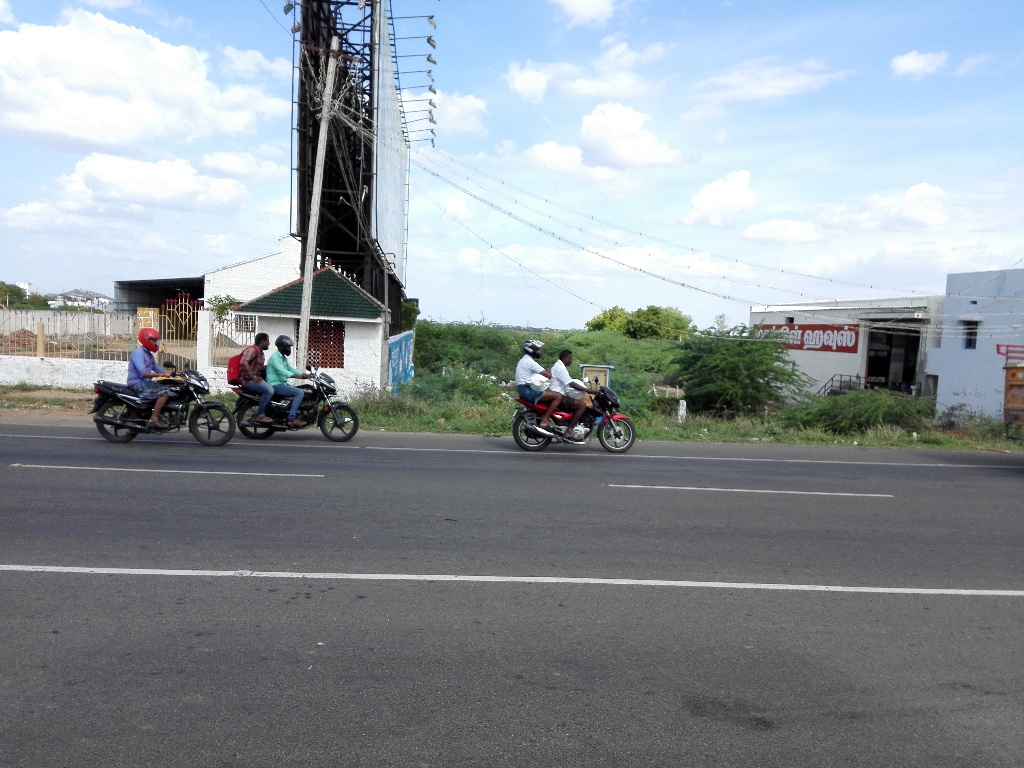biker: (488, 319, 656, 464), (220, 301, 388, 446), (78, 303, 231, 445)
helmet: (135, 320, 166, 357), (271, 330, 298, 359), (519, 332, 546, 361)
nohelmet: (252, 327, 273, 353), (556, 343, 577, 369)
